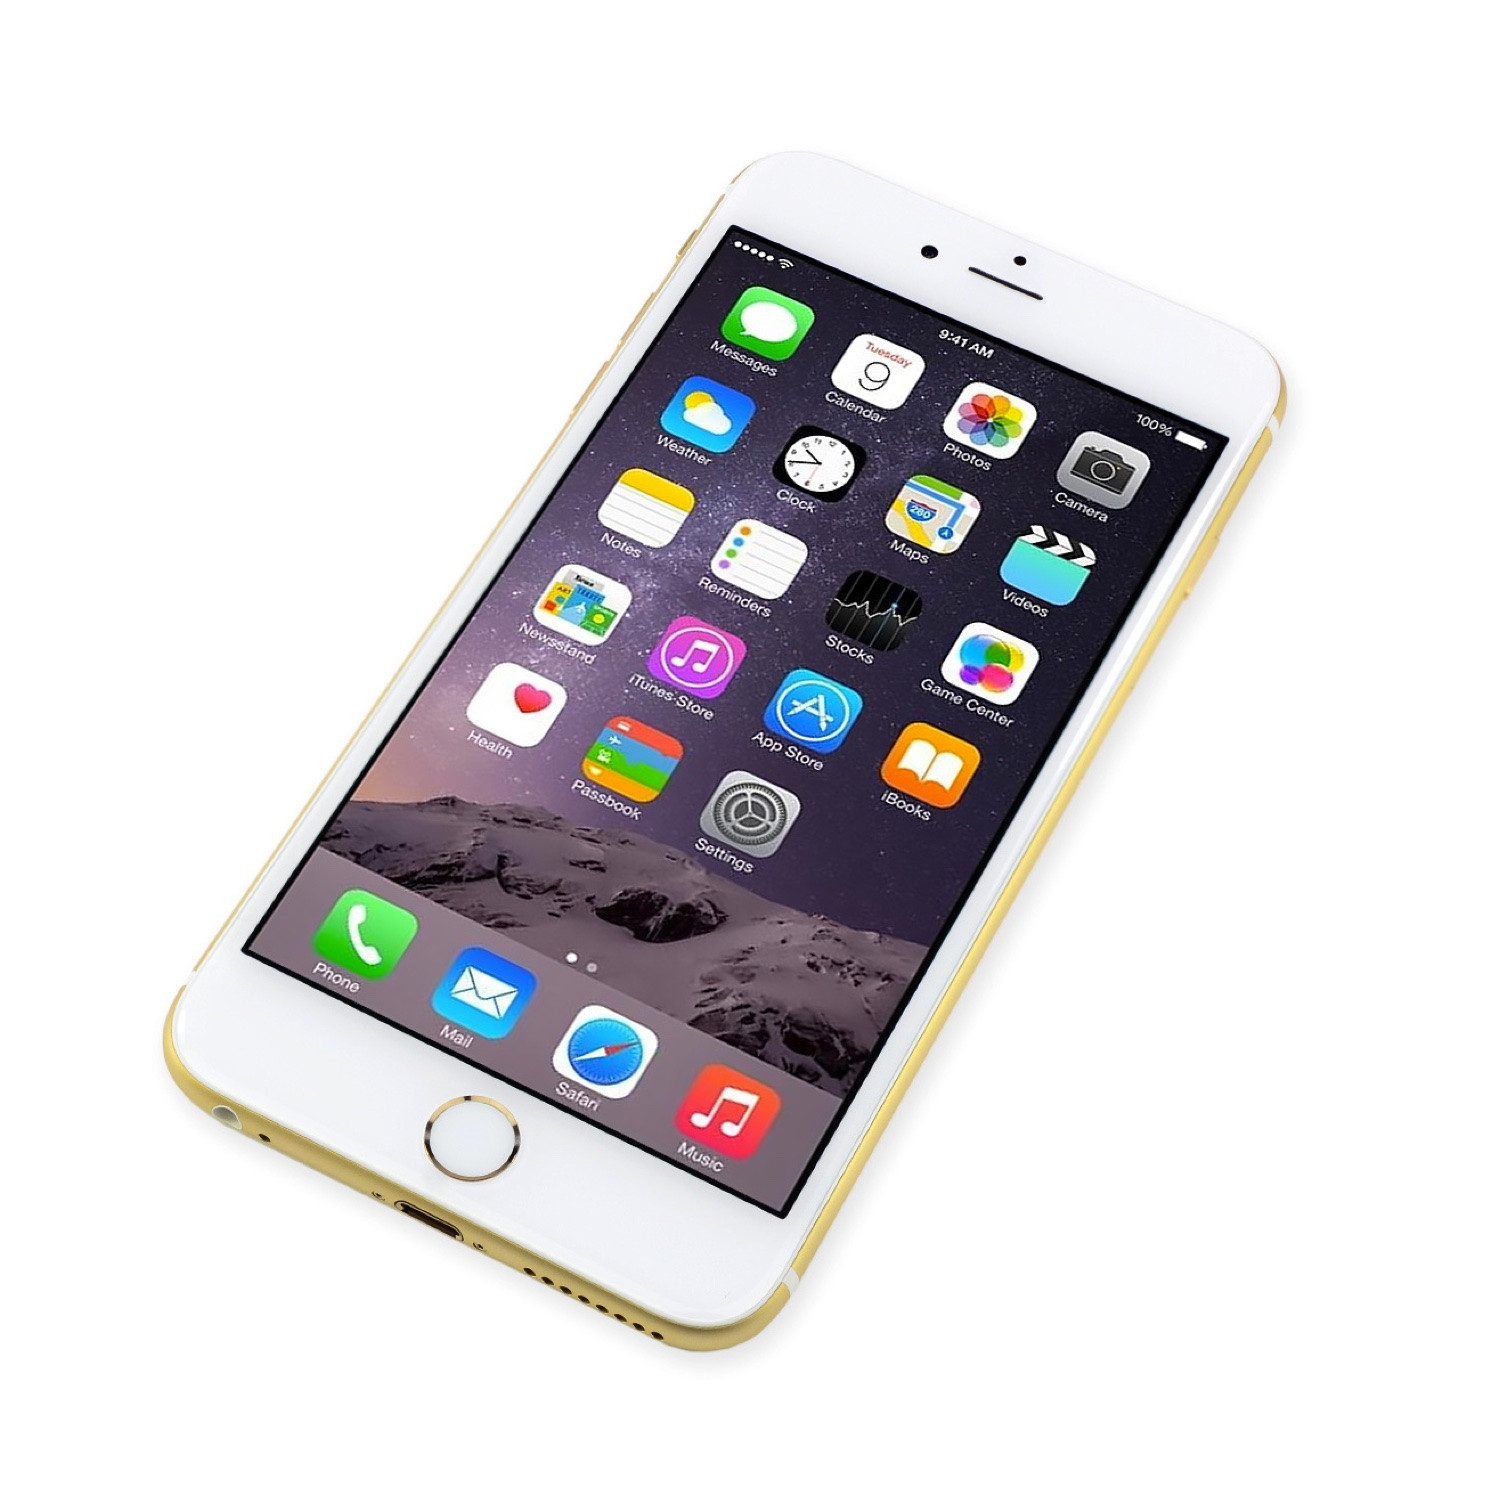smartphone: (161, 148, 1287, 1352)
